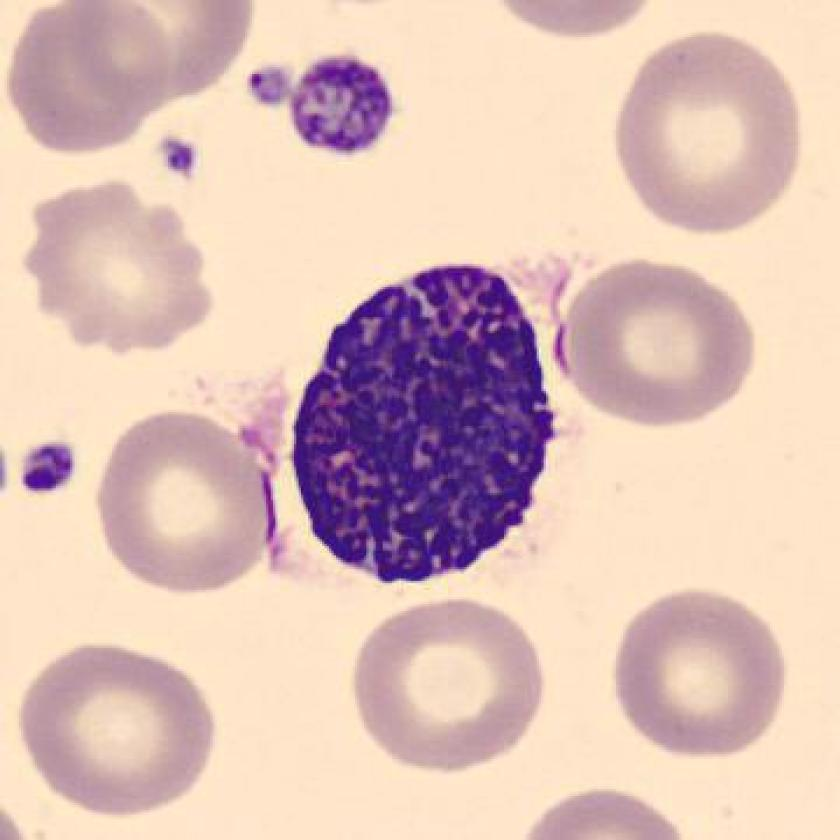basophil: (281, 253, 568, 591)
